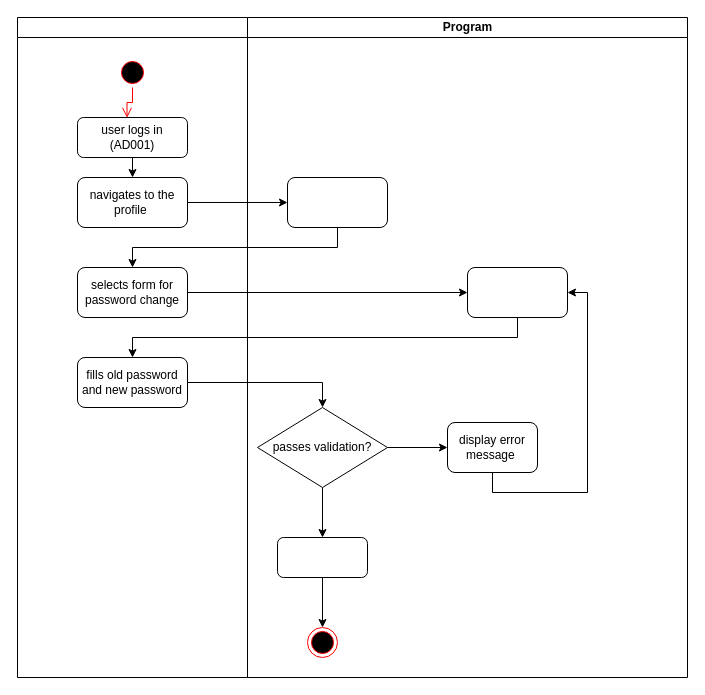
Some shapes in this 705 by 695 pixel diagram are drawn without their labels. The box of each missing label's shape, as (x1, y1, x2, y2) in pixels:
display password change form: (466, 266, 568, 318)
display user profile: (286, 176, 388, 228)
save new password: (276, 536, 368, 578)
User: (16, 16, 248, 678)
